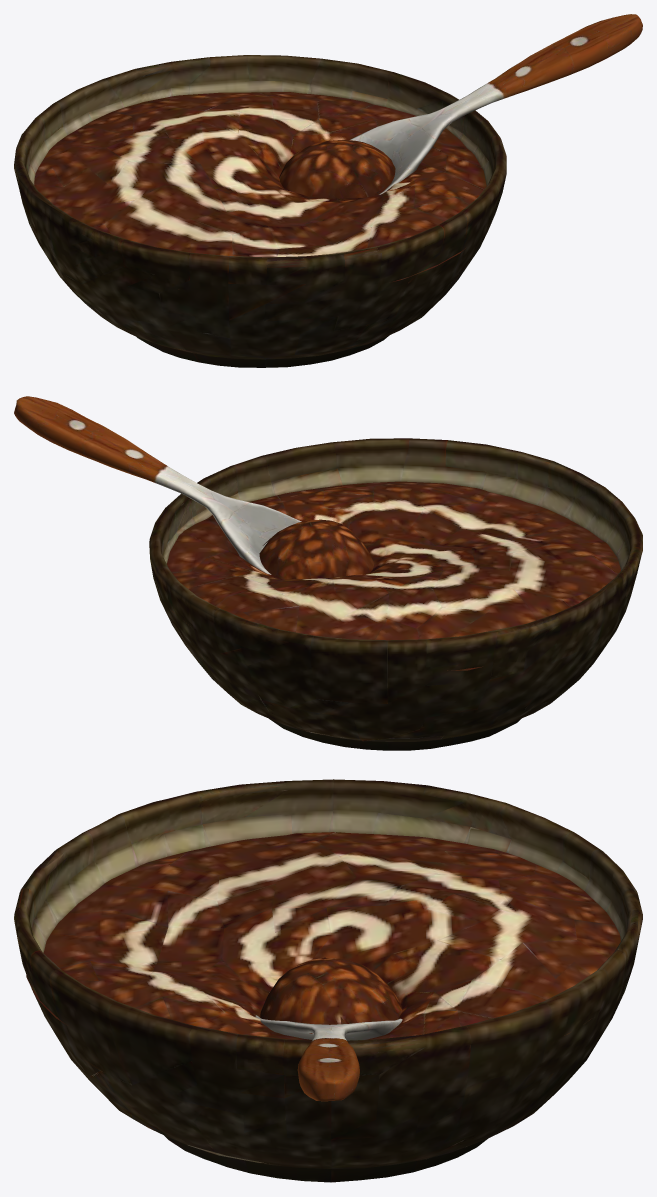
Rendered from champorado.glb.
3 renders of one model, top to bottom at view 1: azimuth 30°, elevation 25°; view 2: azimuth 150°, elevation 25°; view 3: azimuth 270°, elevation 25°, orthographic. The views are drawn at different scales.
Visible parts, largest first — view 1: geometry_0; view 2: geometry_0; view 3: geometry_0.
Part boxes in pixels (bbox=[...]): geometry_0: bbox=[14, 14, 642, 367]; geometry_0: bbox=[14, 396, 642, 750]; geometry_0: bbox=[14, 779, 642, 1182].
Bounding box in the file's own units: 1 × 0.3312 × 0.7323.
1 material, 1 textured.
